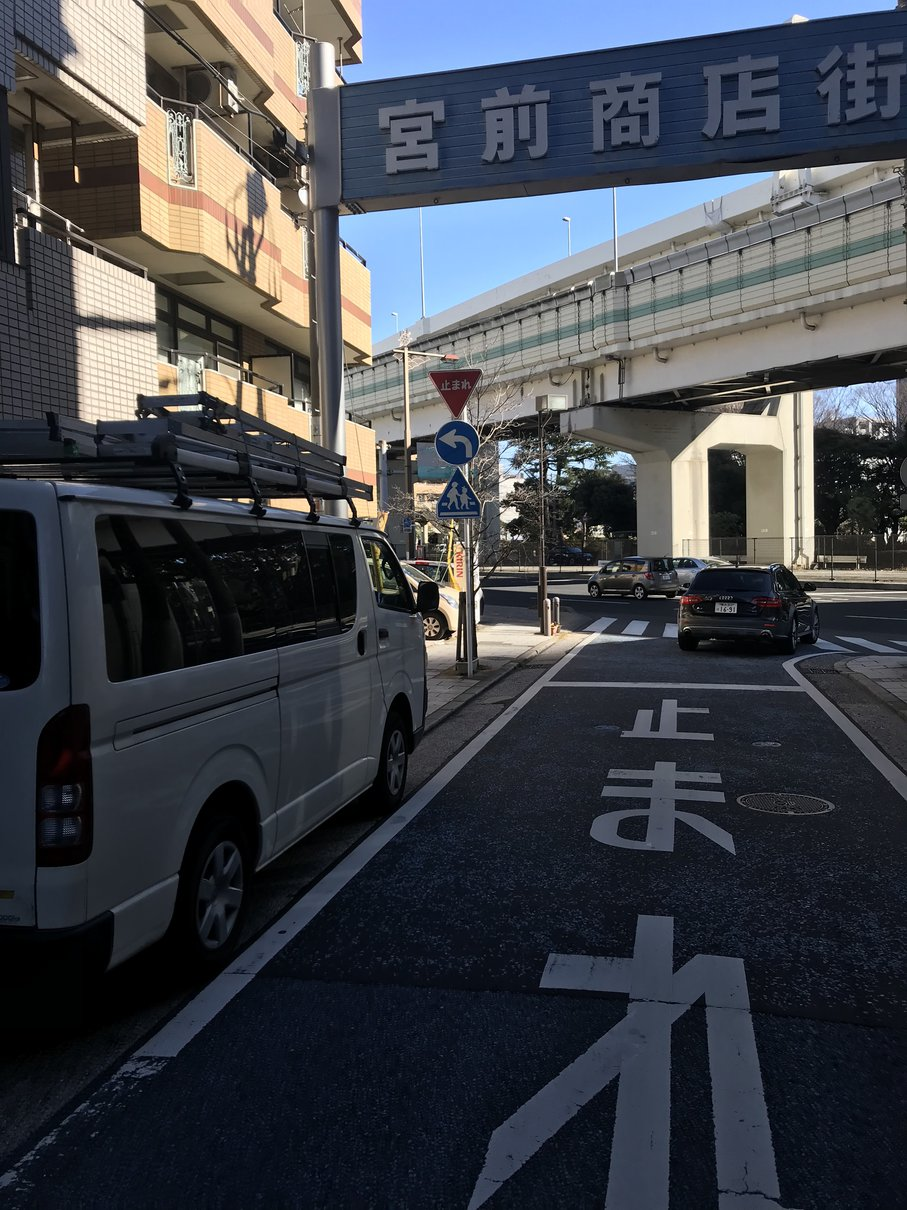stop_sign: (427, 369, 482, 419)
